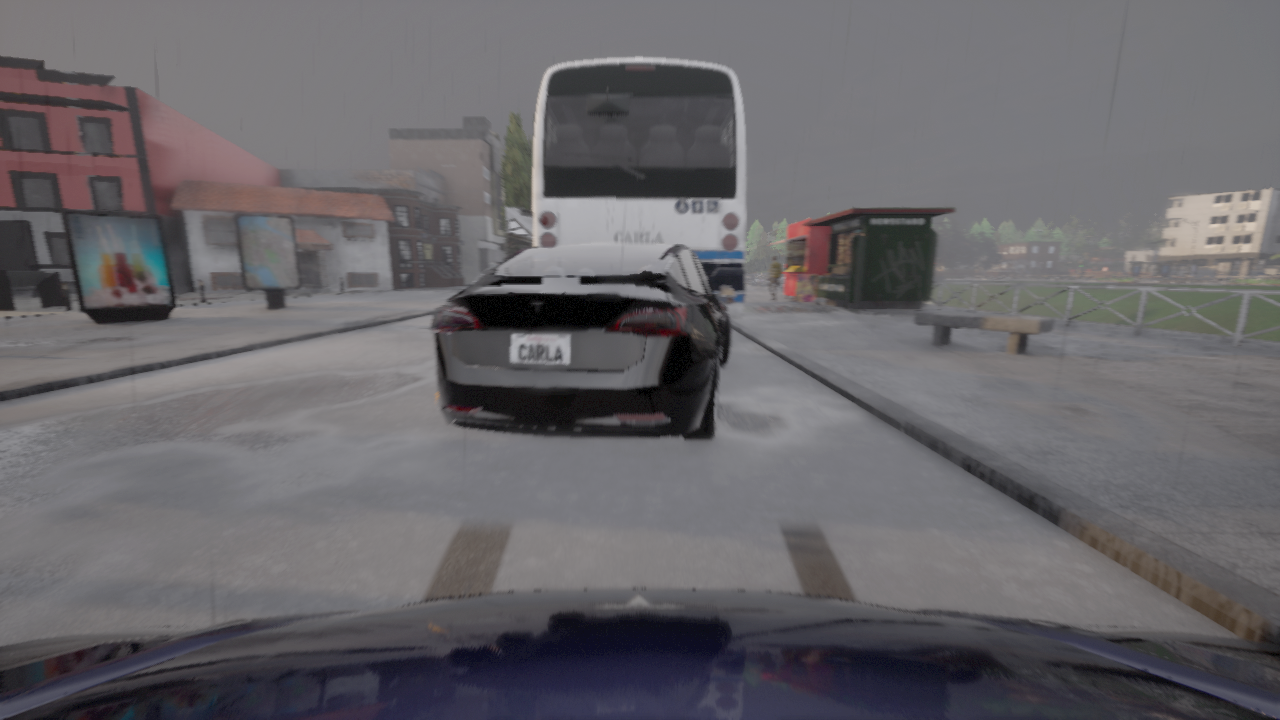cyclist: (0, 588, 1279, 719), (429, 242, 736, 440), (532, 57, 746, 318), (504, 206, 532, 260)
pedestrian: (768, 255, 781, 301)
